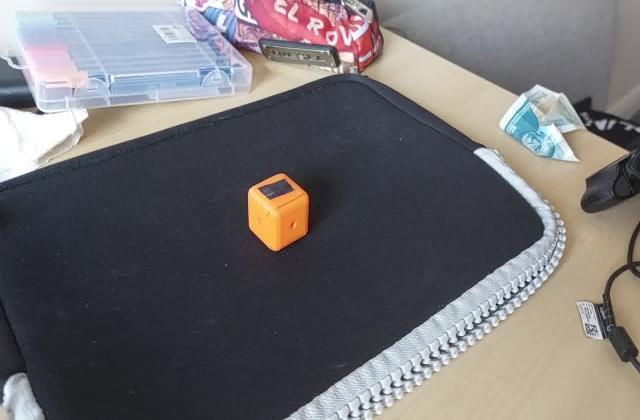black: (256, 180, 296, 202)
cube: (244, 172, 312, 253)
